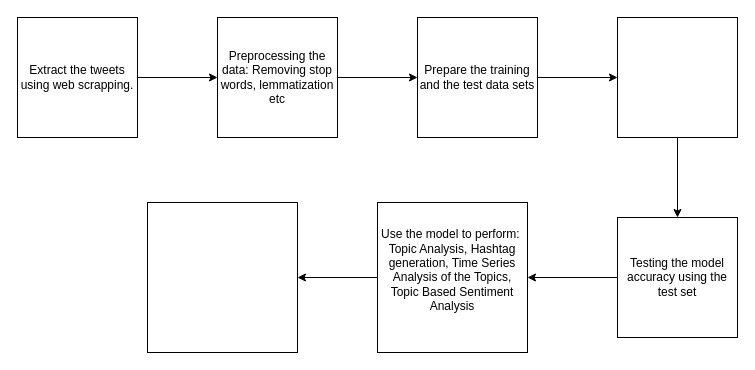
This 755x370 diagram has some shape labels left out. The centre of each missing label's shape, as x and y in pixels:
Training the LDA model: (x=677, y=77)
Visualize the results/ working using the GUI - Tkinter/Flask/React: (x=222, y=277)
